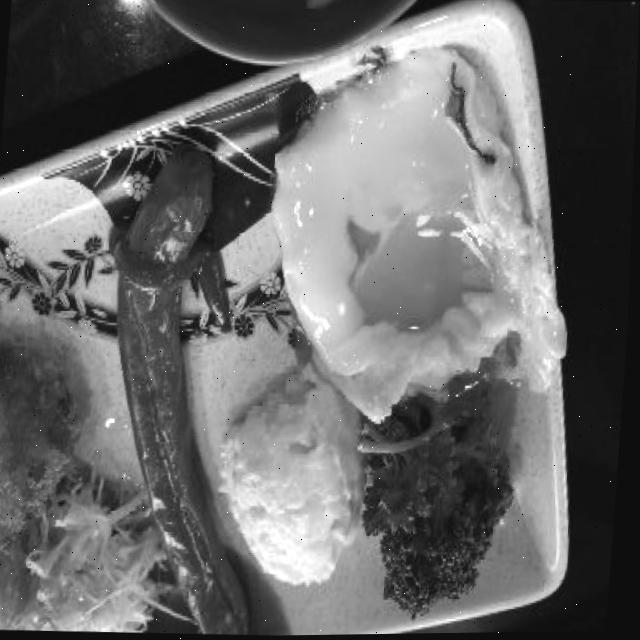鸡蛋料理: (260, 41, 568, 463)
